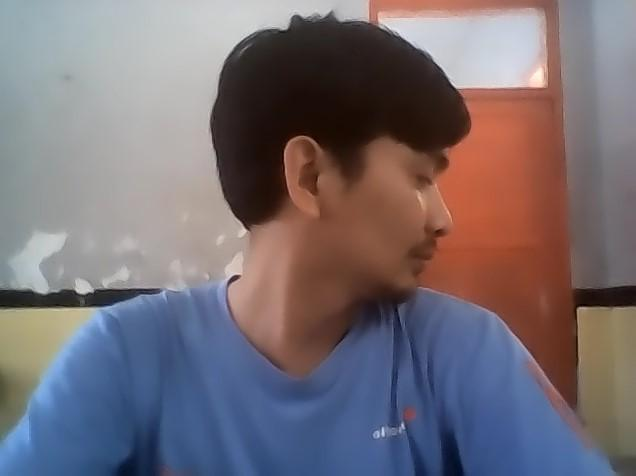cheating: (17, 18, 636, 476)
